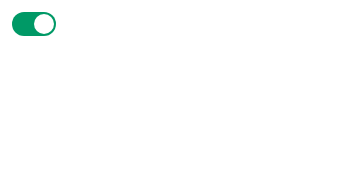
Test: EditionFlagSwitch(reader_full_text) › an unknown outcome (status 0) is not rolled back: it asks to reload and refreshes
Later steps or results of the test are not shown.
Click the switch named "Full text for NABRE".
click(34, 24)  # box [12,12,56,36]
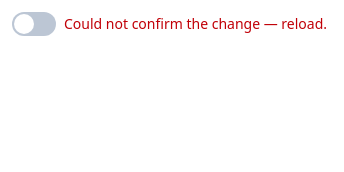
Expected: the switch named "Full text for NABRE" is not checked, [12,12,56,36]
Expected: the message reads "Could not confirm the change — reload.", [64,14,327,33]
Expected: the switch named "Full text for NABRE" is disabled, [12,12,56,36]
